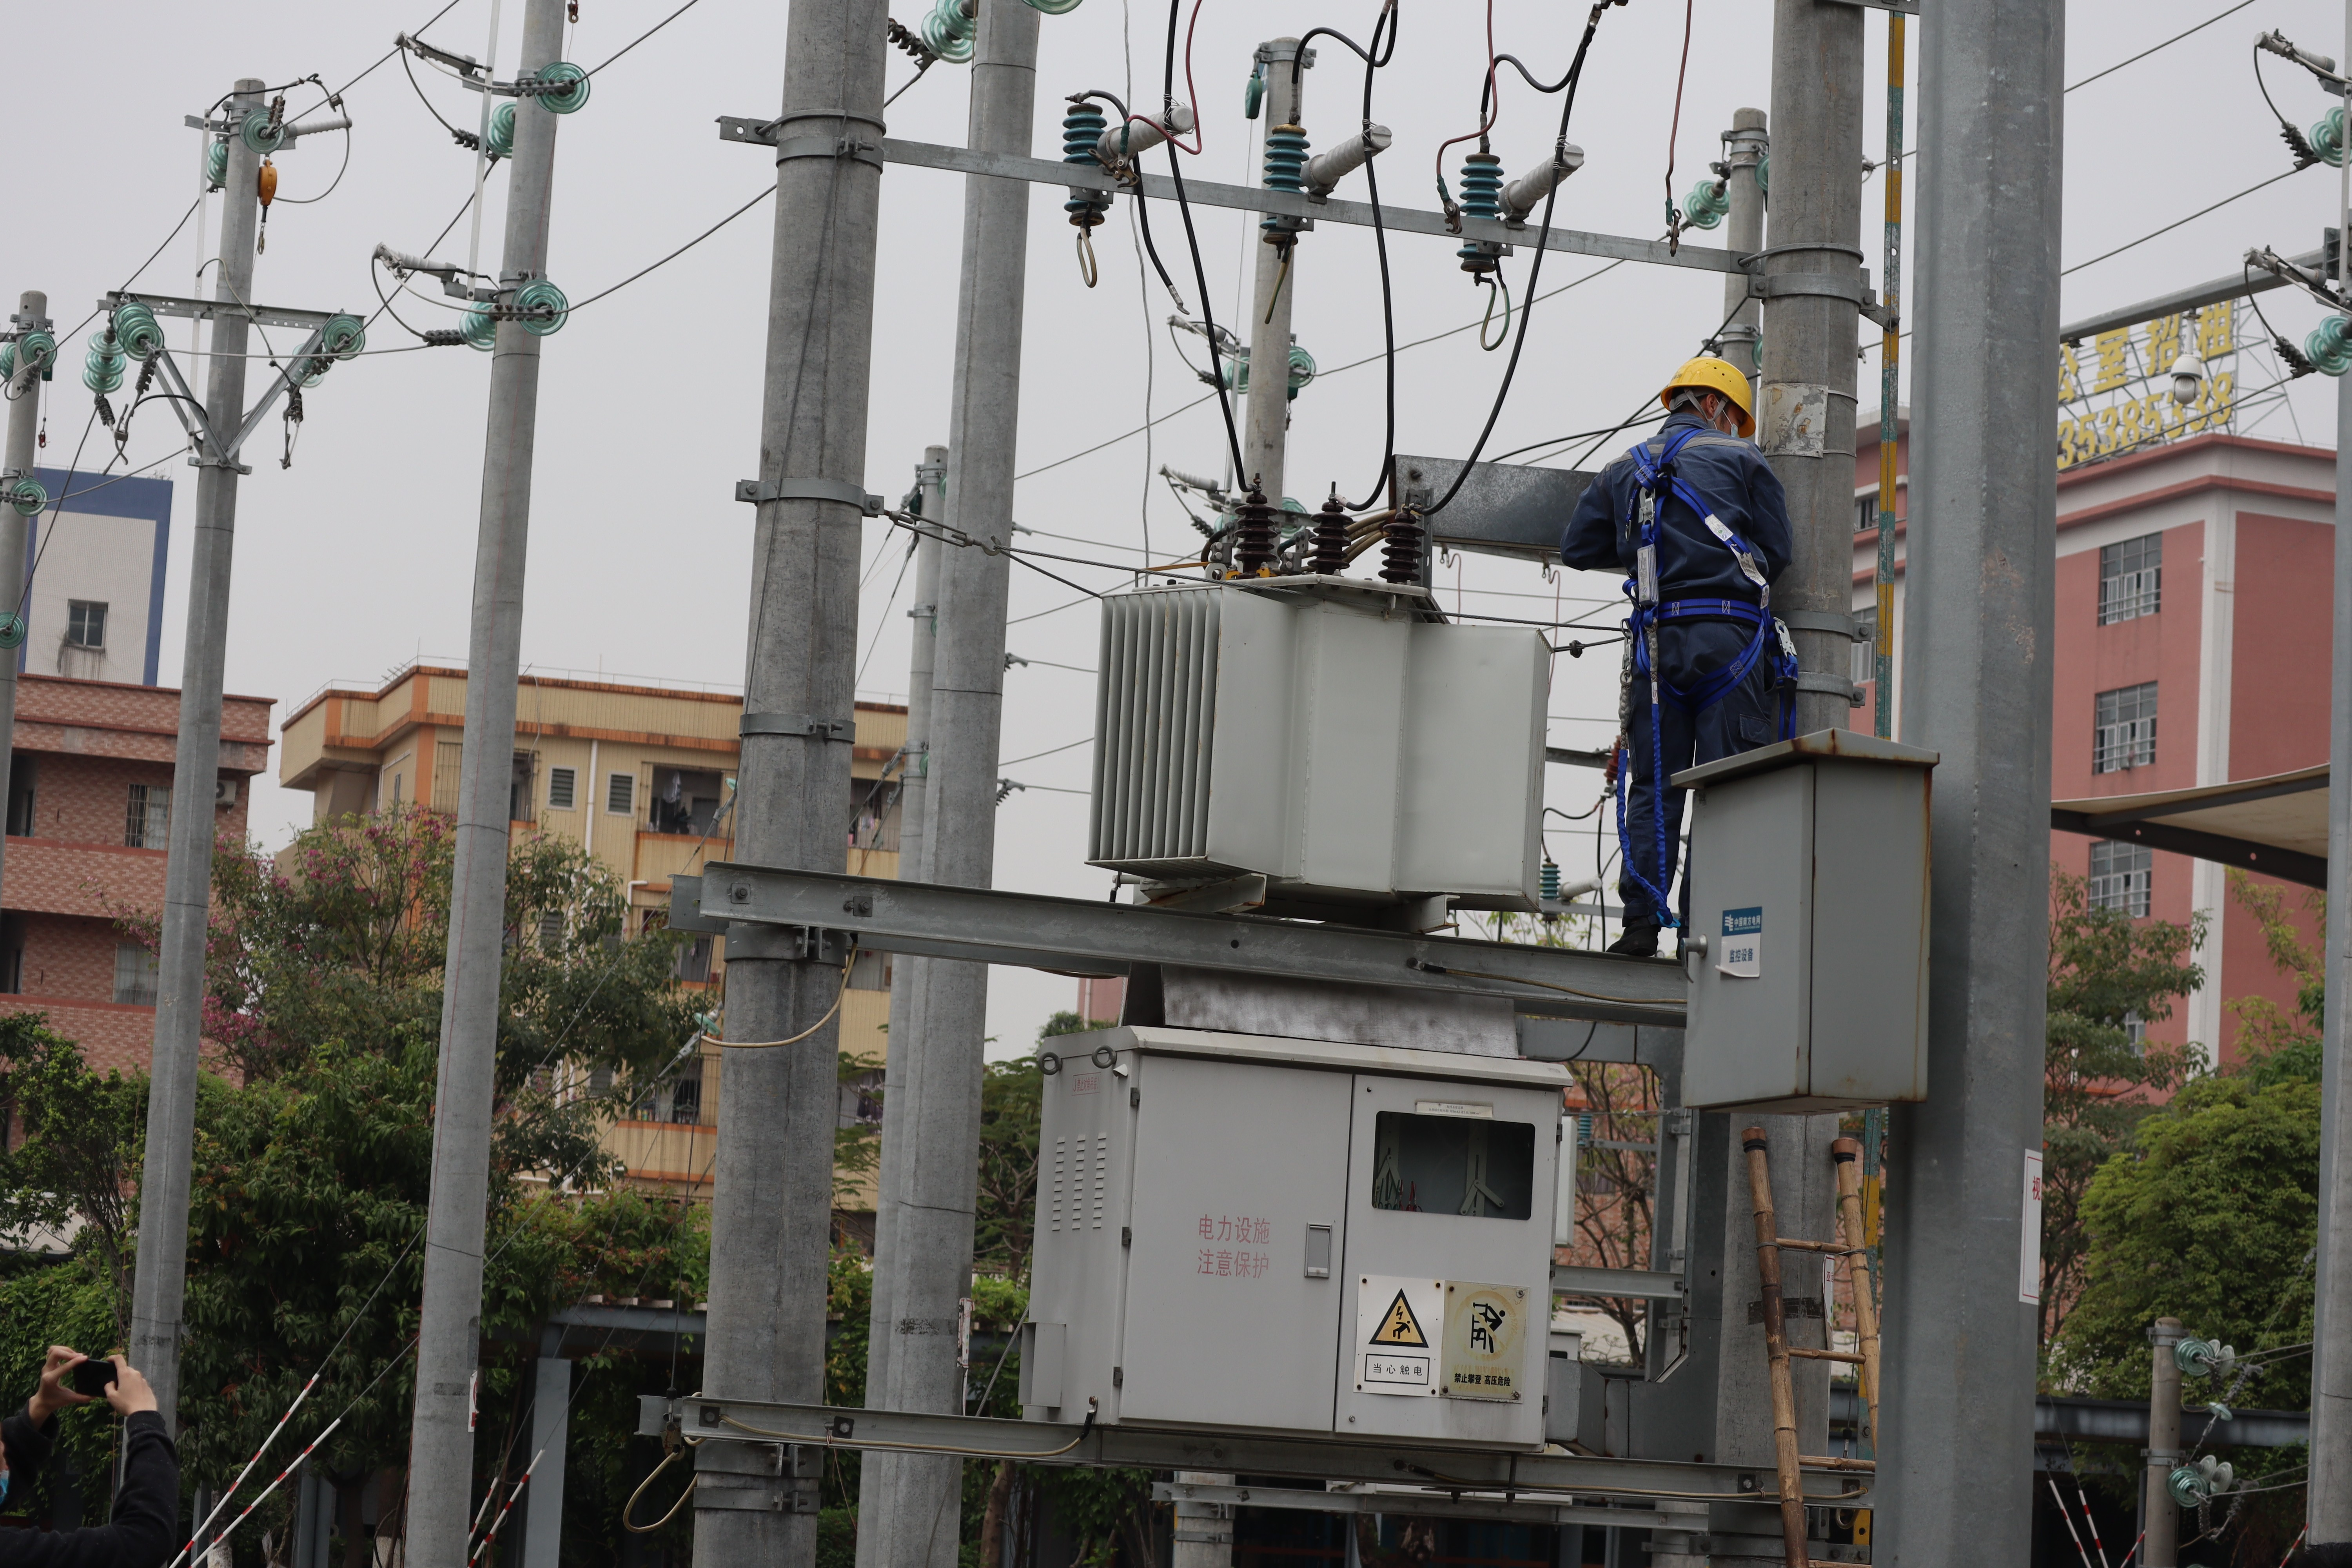downsuit: (1607, 621, 1773, 915)
upsuit: (1557, 420, 1801, 609)
